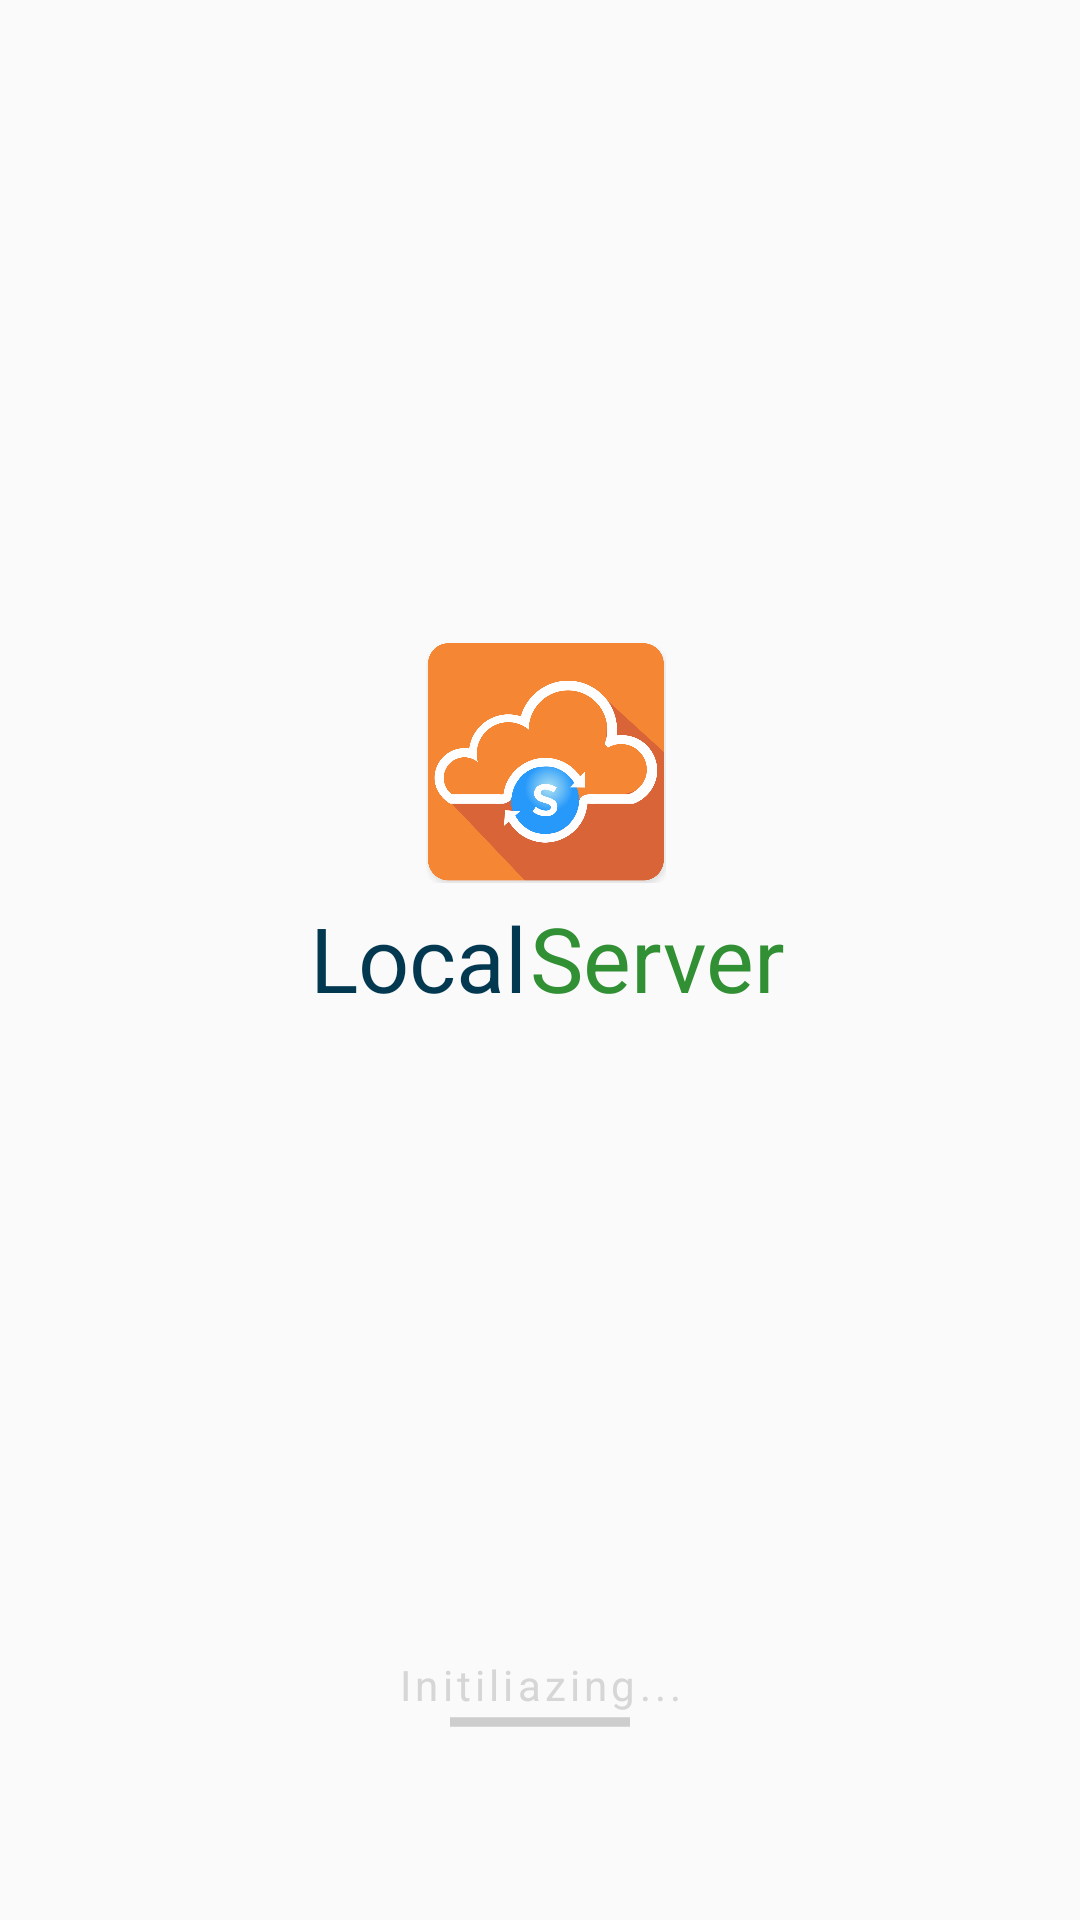

Icon bounding boxes for this 1080px x 1920px phone screenshot, format (x1, y1, x2, y2):
cloud app: (428, 643, 664, 881)
